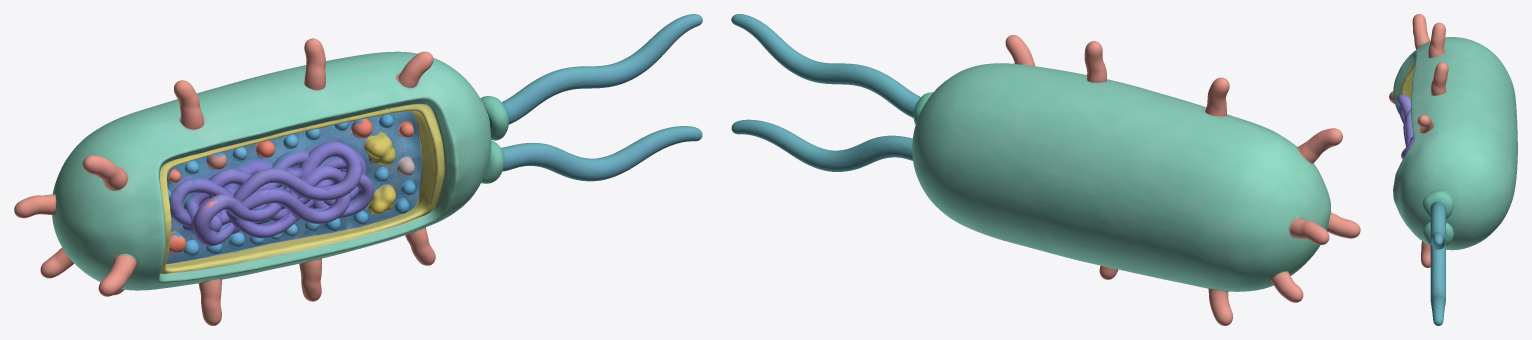
The model's file is bacteria.glb.
3 renders of one model, left to right at view 1: azimuth 30°, elevation 25°; view 2: azimuth 150°, elevation 25°; view 3: azimuth 270°, elevation 25°, orthographic. The views are drawn at different scales.
Visible parts, largest first — view 1: bacteria; view 2: bacteria; view 3: bacteria.
Part boxes in pixels (box(x1,y1,x2,y2)): bacteria: box(14, 14, 702, 325); bacteria: box(731, 14, 1360, 325); bacteria: box(1389, 14, 1517, 325).
Size of the model in its own units: 0.3 by 0.1107 by 0.073.
Materials: 1 (1 with a texture image).
